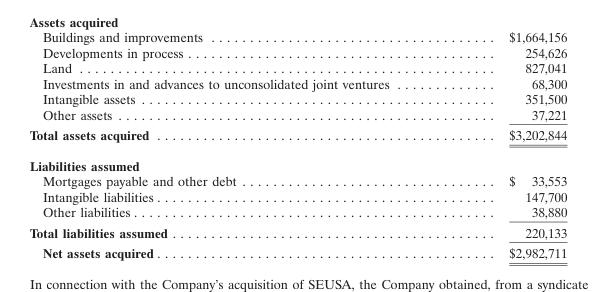table: (28, 28, 566, 260)
table column: (28, 28, 448, 260), (448, 28, 566, 260)
table projected row header: (28, 149, 566, 172)
table row: (28, 124, 566, 149), (28, 149, 566, 172), (28, 221, 566, 242), (28, 106, 566, 124), (28, 203, 566, 221), (28, 242, 566, 260), (28, 28, 566, 44), (28, 59, 566, 75), (28, 90, 566, 106), (28, 172, 566, 188), (28, 44, 566, 59), (28, 75, 566, 90), (28, 188, 566, 203)
